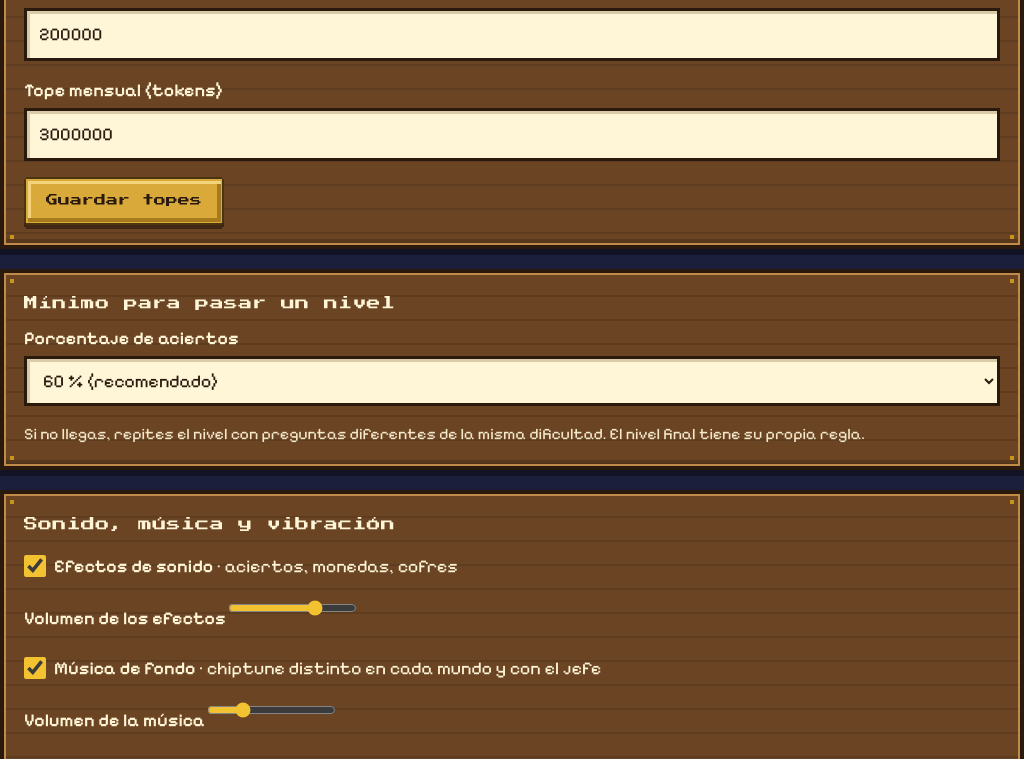
Ajustes: música y mínimo para pasar › muestra los controles de música y guarda el mínimo en el servidor
The width and height of the screenshot is (1024, 759).
Later steps or results of the test are not shown.
(page scrolled)
expect the checkbox labelled "Música de fondo" is checked: met, box [24, 657, 46, 679]
expect the slider labelled "Volumen de la música" holds "25": met, box [207, 694, 336, 726]
Select "80 %" in the dropdown labelled "Porcentaje de aciertos" at coordinates (512, 381), box [24, 356, 1000, 406]
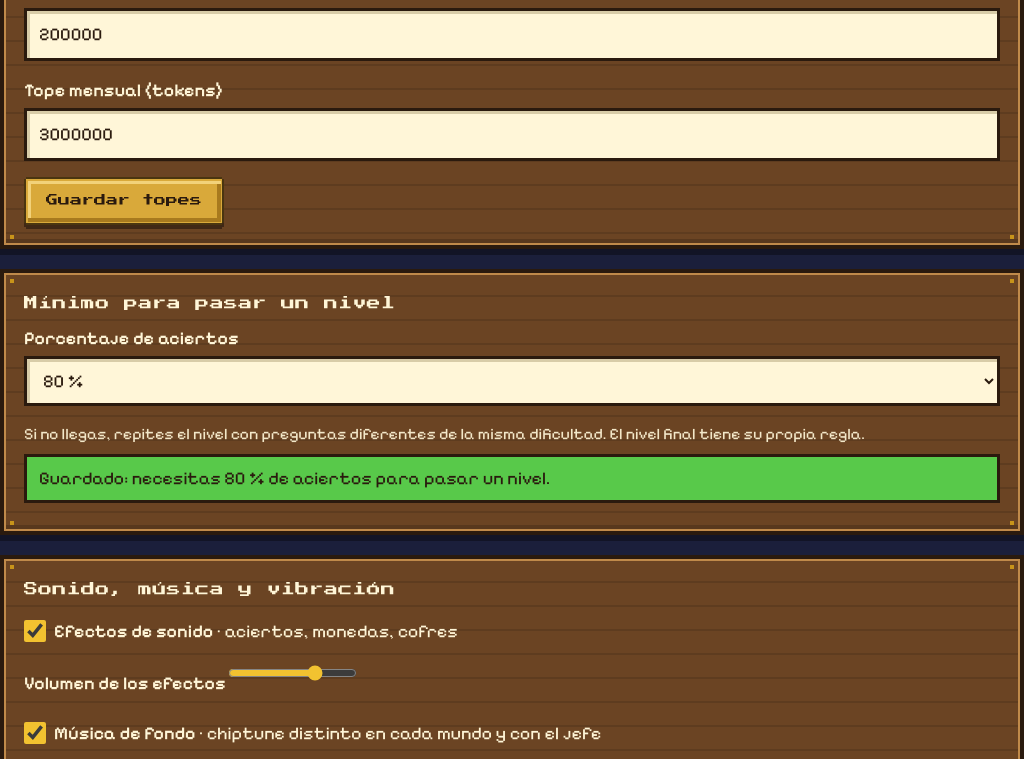
expect the text "Guardado: necesitas 80 % de aciertos para pasar un nivel." is shown: met, box [24, 454, 1000, 503]
